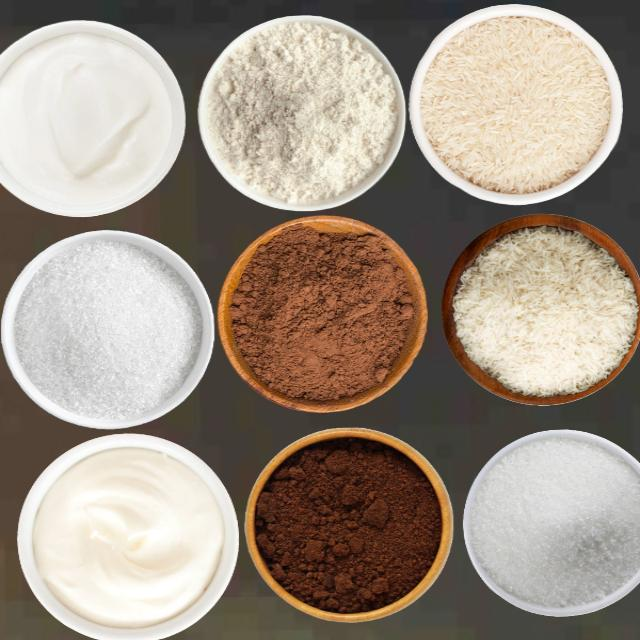Cocoa: (228, 224, 415, 402)
Coffee: (252, 436, 442, 615)
Flour: (206, 19, 396, 204)
Sugar: (12, 238, 200, 421), (467, 437, 639, 608)
